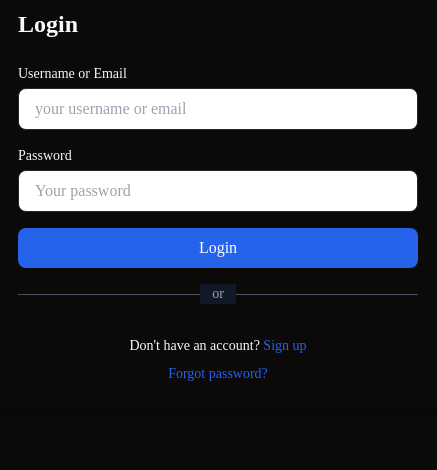
Test: LoginPage › shows detail error on failed login
Type "testuser" into the field with placeholder "your username or email".
click(218, 109); type("testuser")  # box [18,88,418,130]
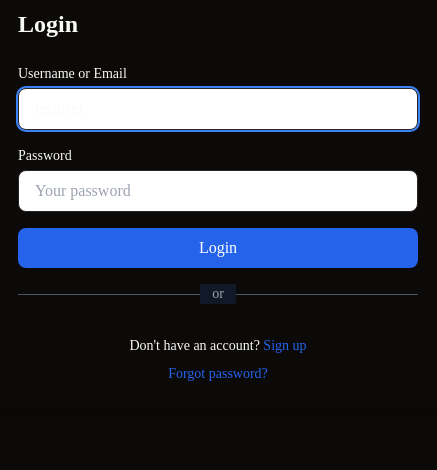
Type "wrongpassword" into the password field with placeholder "Your password".
click(218, 191); type("wrongpassword")  # box [18,170,418,212]
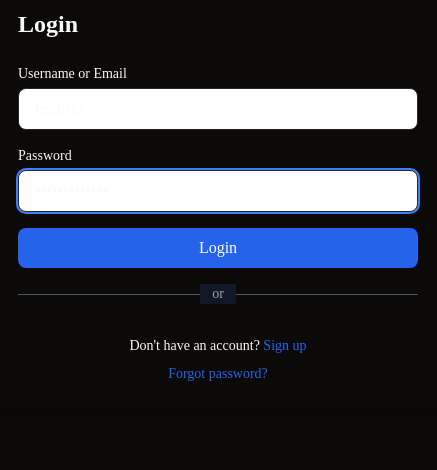
Click the button "Login".
click(218, 248)  # box [18,228,418,268]
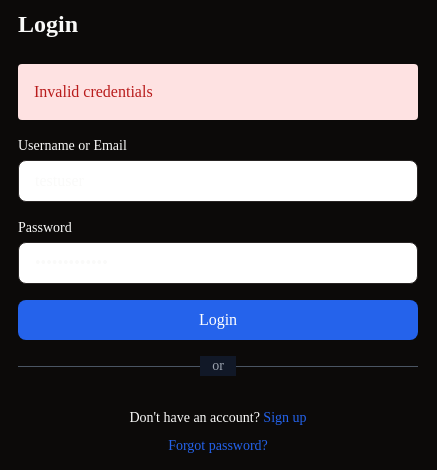
Now the text "Invalid credentials" is shown, box [18,64,418,120]
